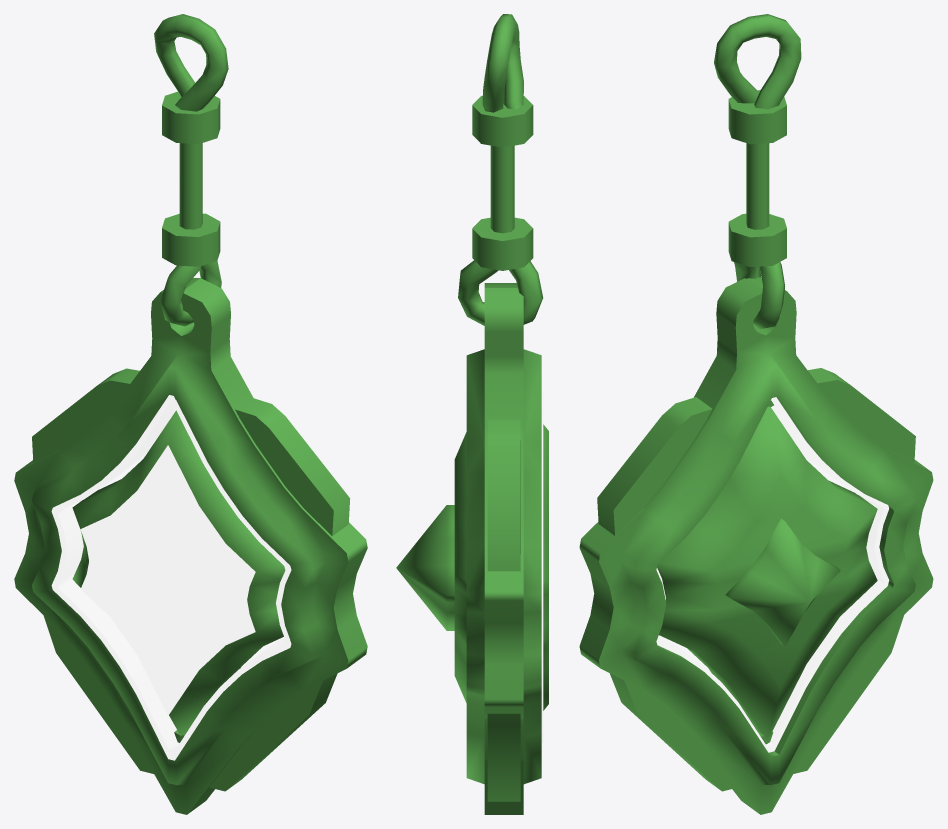
The model's file is ascendant.glb.
The picture shows the model from 3 angles, left to right: view 1: azimuth 30°, elevation 25°; view 2: azimuth 150°, elevation 25°; view 3: azimuth 270°, elevation 25°; orthographic projection.
Parts seen in each view (by area): view 1: GN_Buddies_RankEP8_Ascendant_Skelmesh.mo.001; view 2: GN_Buddies_RankEP8_Ascendant_Skelmesh.mo.001; view 3: GN_Buddies_RankEP8_Ascendant_Skelmesh.mo.001.
Boxes of the visible parts, x1,y1,x2,y2 form: GN_Buddies_RankEP8_Ascendant_Skelmesh.mo.001: [14, 14, 367, 814]; GN_Buddies_RankEP8_Ascendant_Skelmesh.mo.001: [396, 14, 548, 814]; GN_Buddies_RankEP8_Ascendant_Skelmesh.mo.001: [579, 14, 933, 814].
Size of the model in its own units: 0.0134 by 0.0514 by 0.0209.
